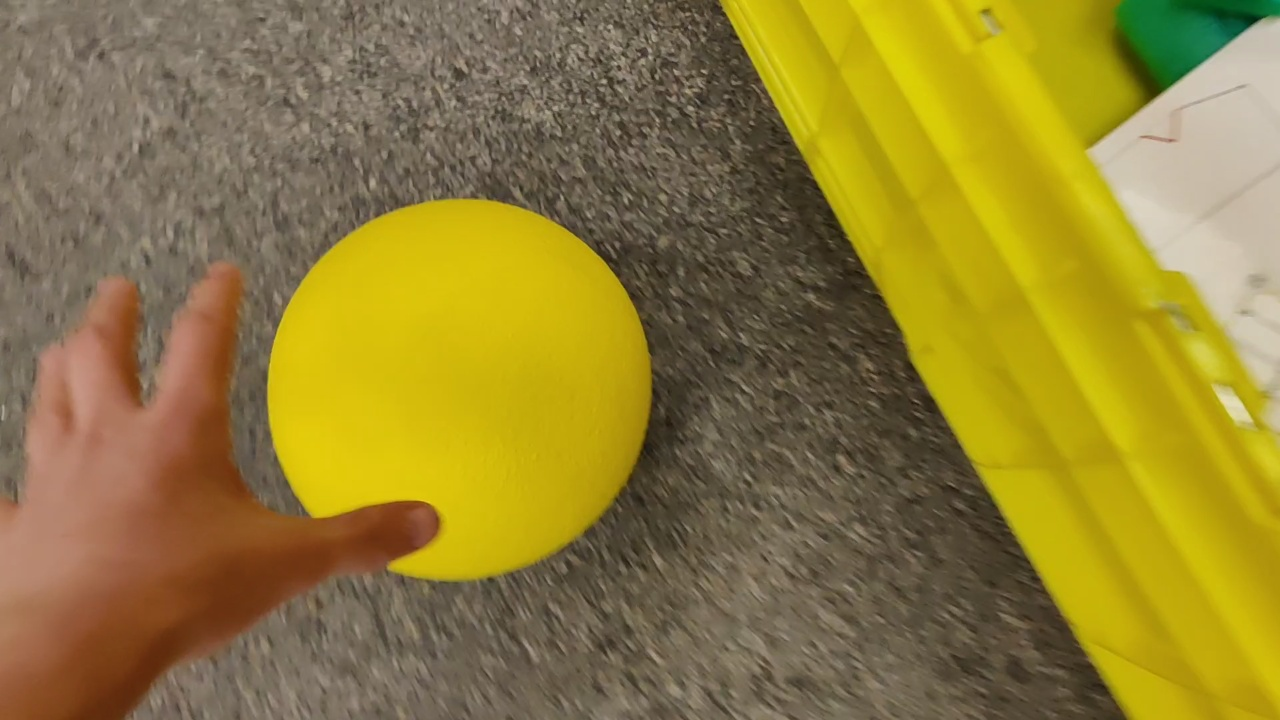Ball: (268, 201, 663, 579)
